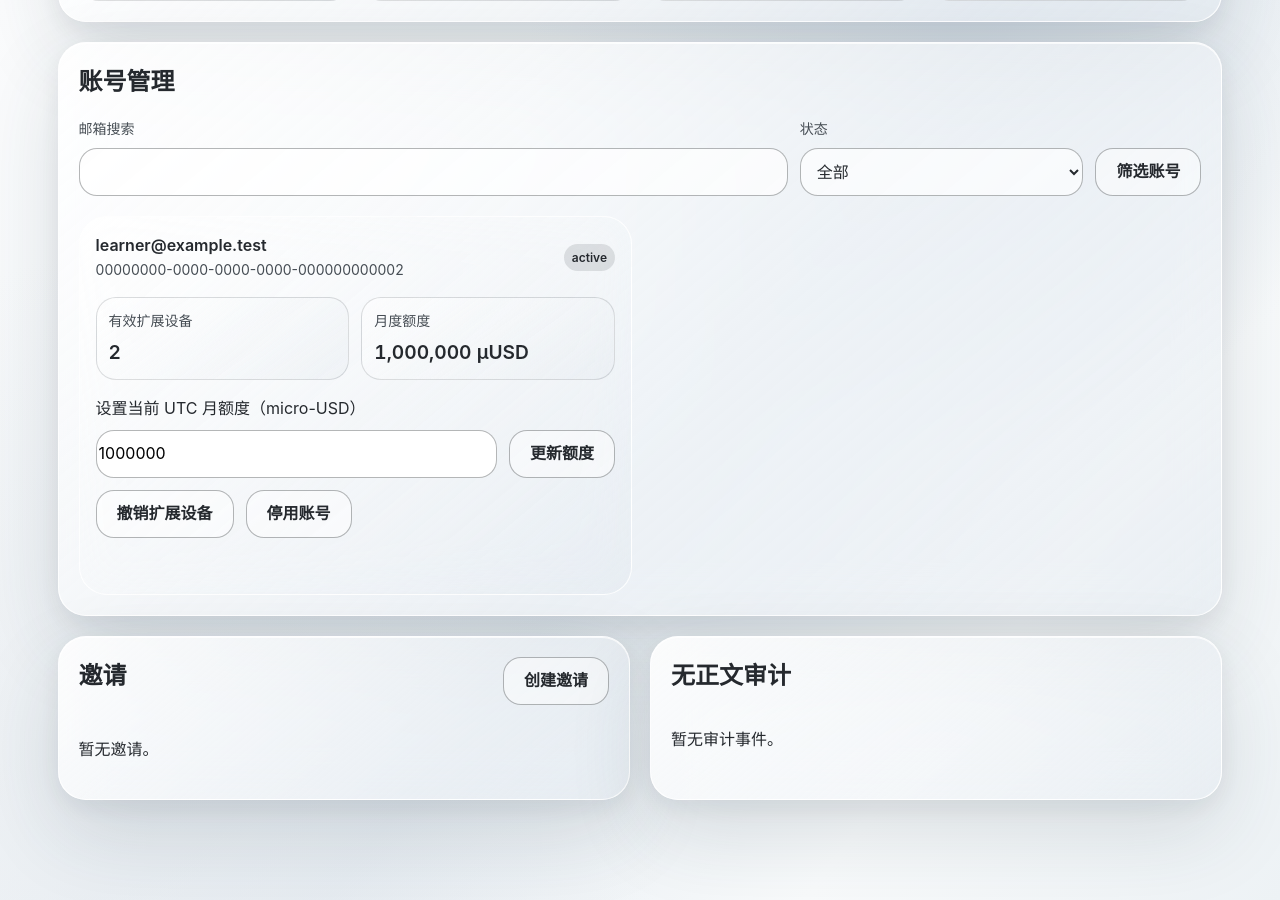
Test: Admin operations page › recovers an ambiguous invitation response without claiming it was not created
This screenshot has width=1280, height=900.
(page scrolled)
Click the button "创建邀请".
click(556, 681)  # box x1=503 y1=657 x2=609 y2=705
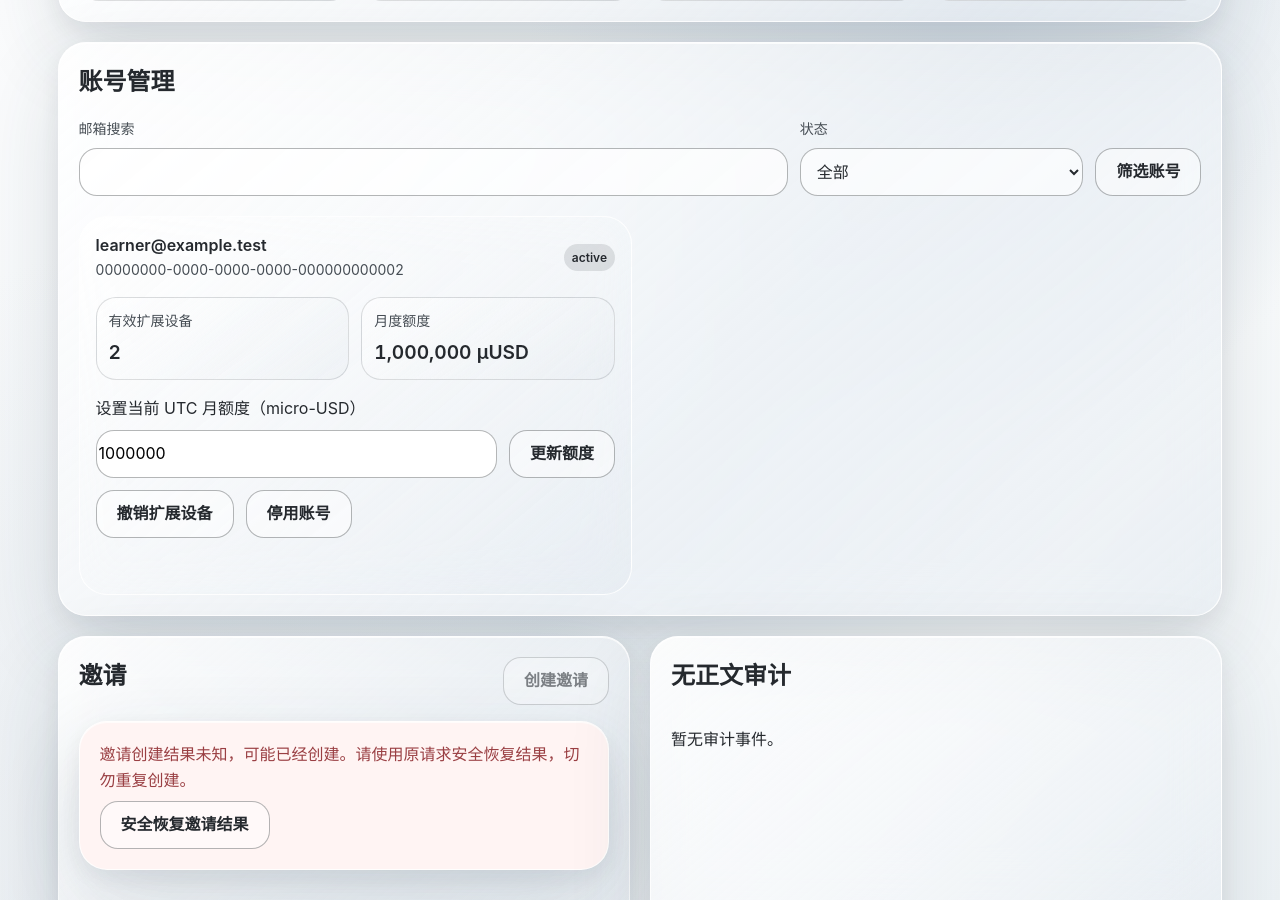
Check: the message "邀请创建结果未知，可能已经创建。请使用原请求安全恢复结果，切勿重复创建。 安全恢复邀请结果" is shown, box x1=79 y1=721 x2=609 y2=870
Check: the button "创建邀请" is disabled, box x1=503 y1=657 x2=609 y2=705
Click the button "安全恢复邀请结果".
click(185, 825)  # box x1=100 y1=801 x2=270 y2=849
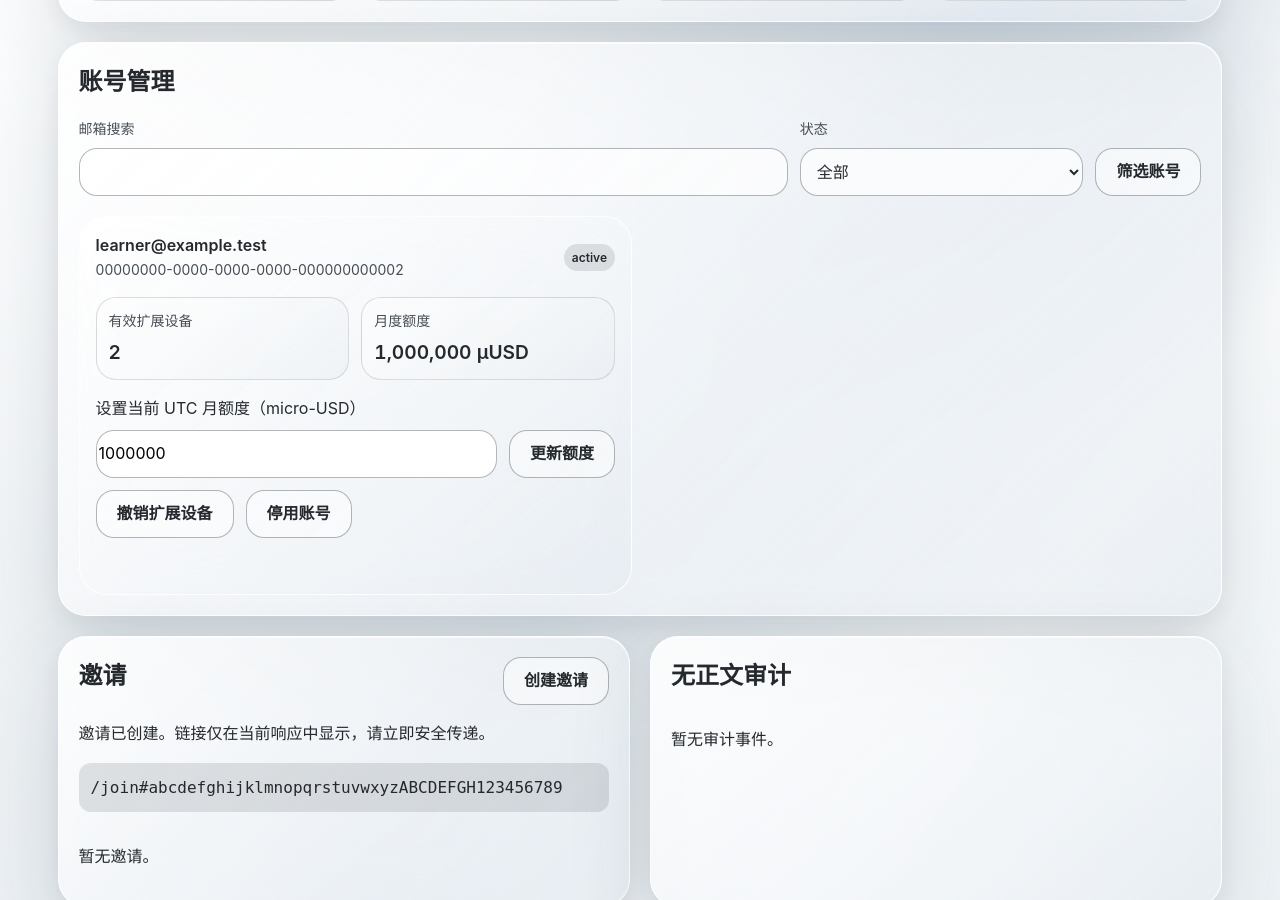
Check: the text "/join#abcdefghijklmnopqrstuvwxyzABCDEFGH123456789" is shown, box x1=79 y1=762 x2=609 y2=812
Check: the button "创建邀请" is enabled, box x1=503 y1=657 x2=609 y2=705
